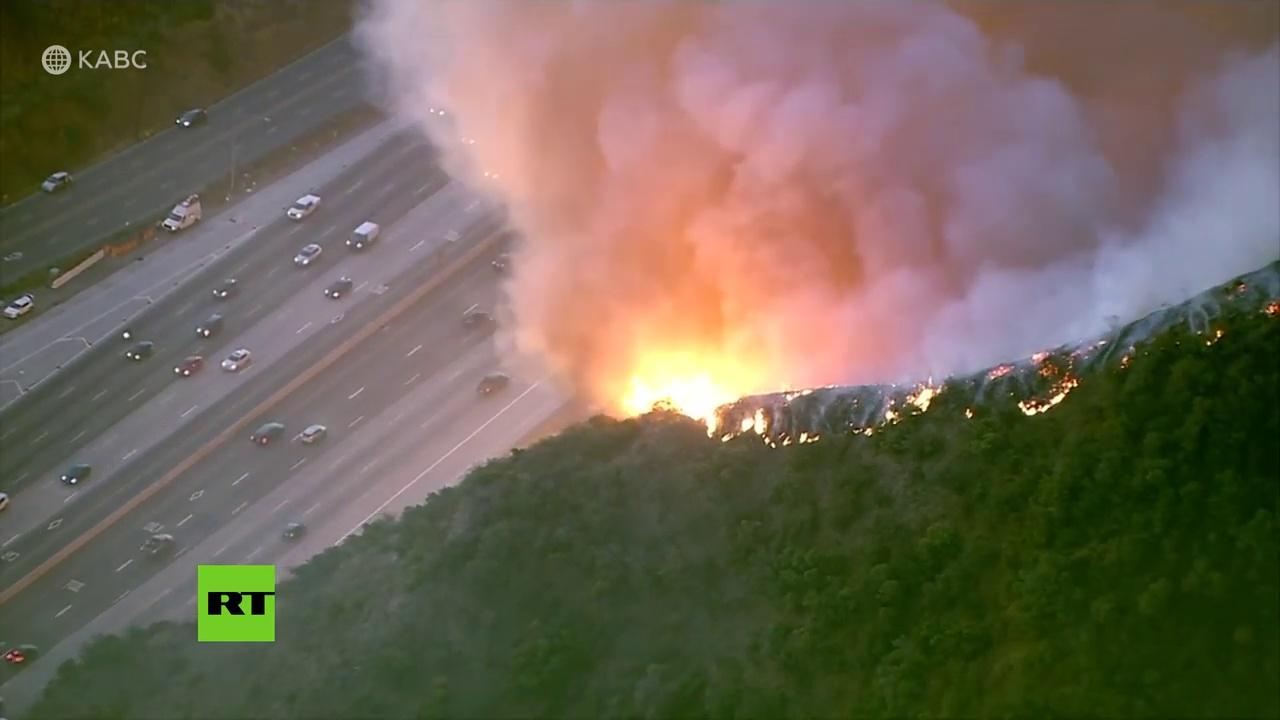Fire: (634, 364, 725, 438), (727, 414, 823, 449), (882, 379, 939, 434), (1015, 389, 1068, 419)
